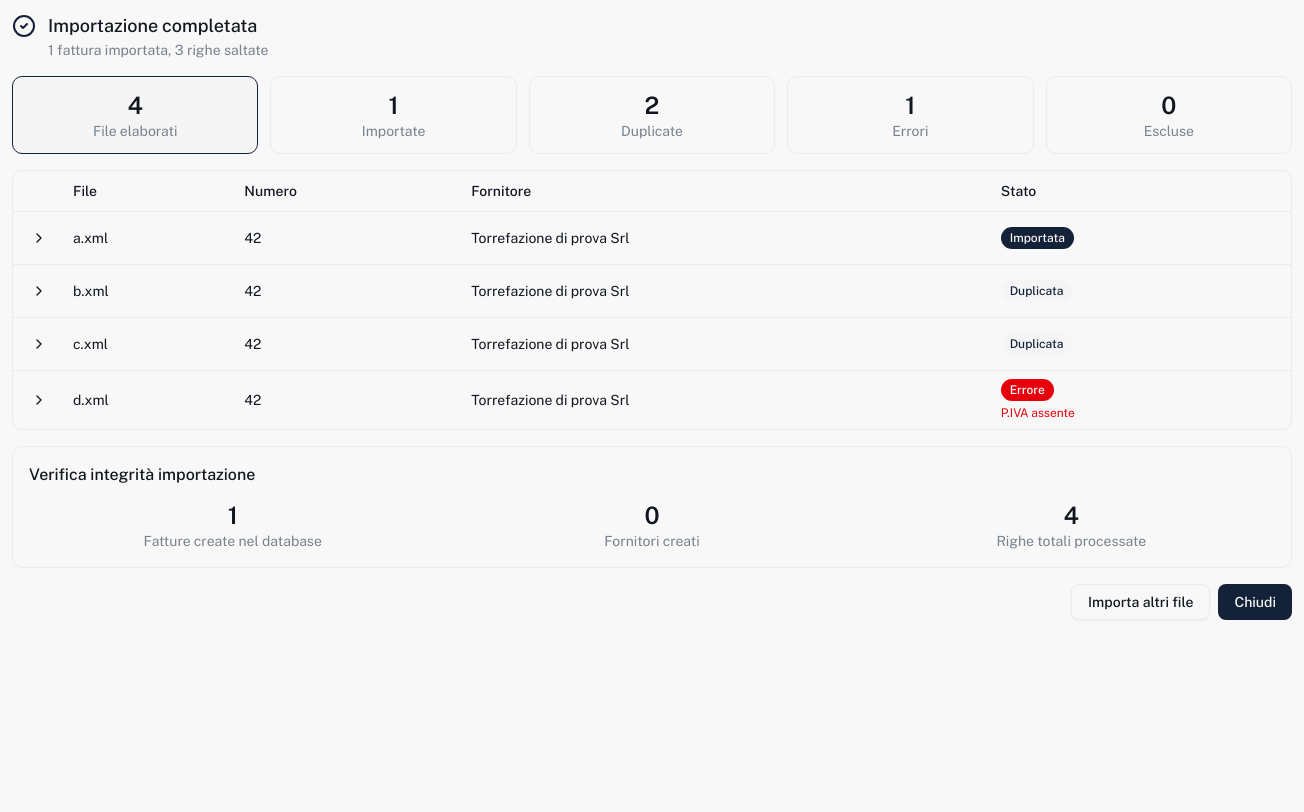
Scenario: RiepilogoFinale › apre il dettaglio completo della fattura sulla riga
The image size is (1304, 812).
Click the button named "dettagli di a.xml" at point(39, 238), box [21,220,57,256]
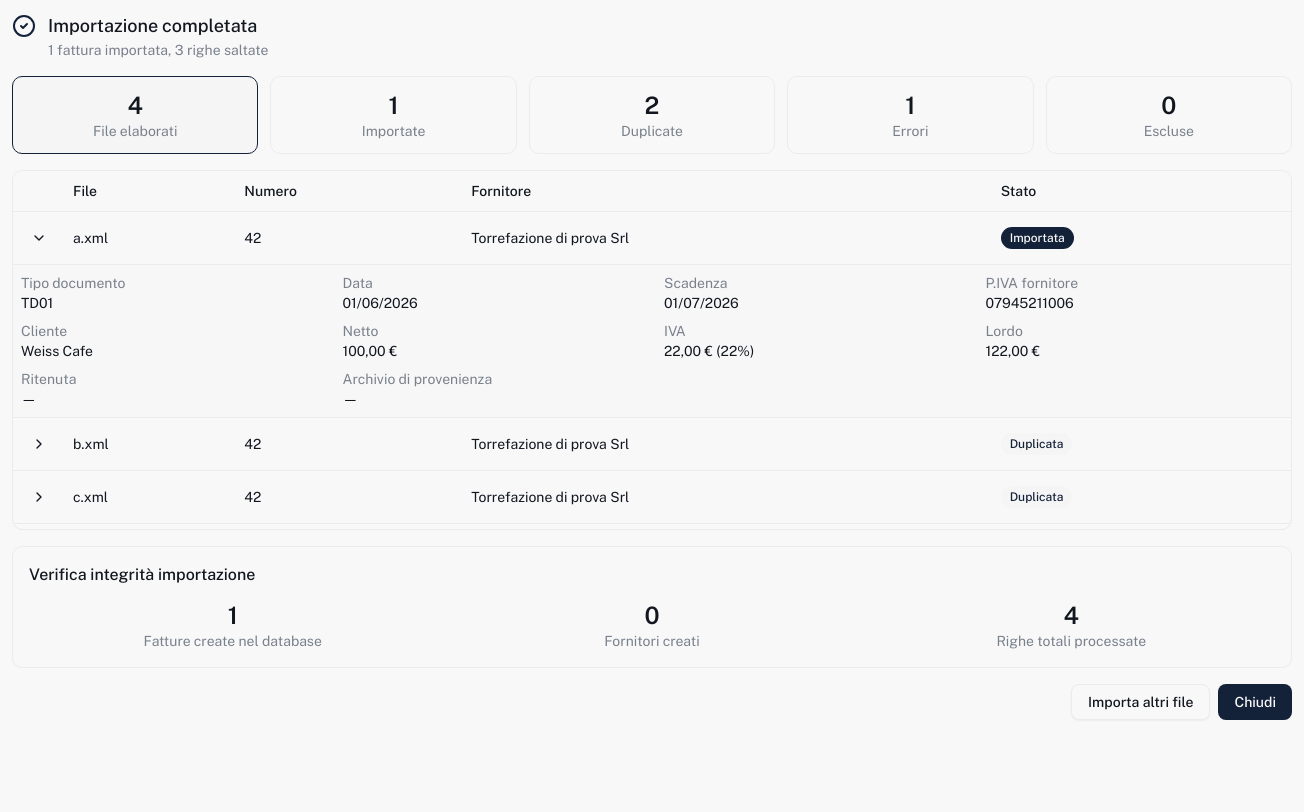
Expected: the text "07945211006" is shown, [986,294,1074,310]
Expected: the text "TD01" is shown, [21,294,53,310]
Expected: the text "01/07/2026" is shown, [664,294,739,310]
